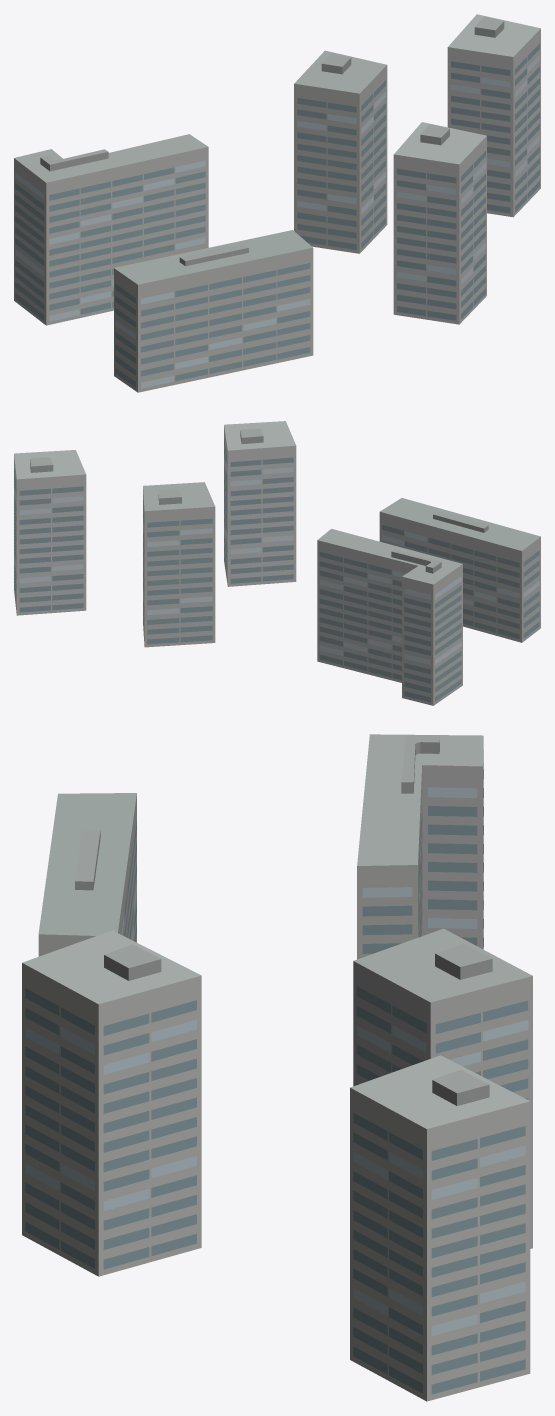
File: apt-a12220001.glb
3 views of the same model, one above another, from view 1: azimuth 30°, elevation 25°; view 2: azimuth 150°, elevation 25°; view 3: azimuth 270°, elevation 25° (orthographic). The views are drawn at different scales.
Parts seen in each view (by area): view 1: apt-a12220001; view 2: apt-a12220001; view 3: apt-a12220001.
Part boxes in pixels (bbox=[...]): apt-a12220001: bbox=[14, 14, 540, 392]; apt-a12220001: bbox=[14, 421, 540, 705]; apt-a12220001: bbox=[22, 734, 532, 1401].
Bounding box in the file's own units: 147 × 46 × 74.7.
